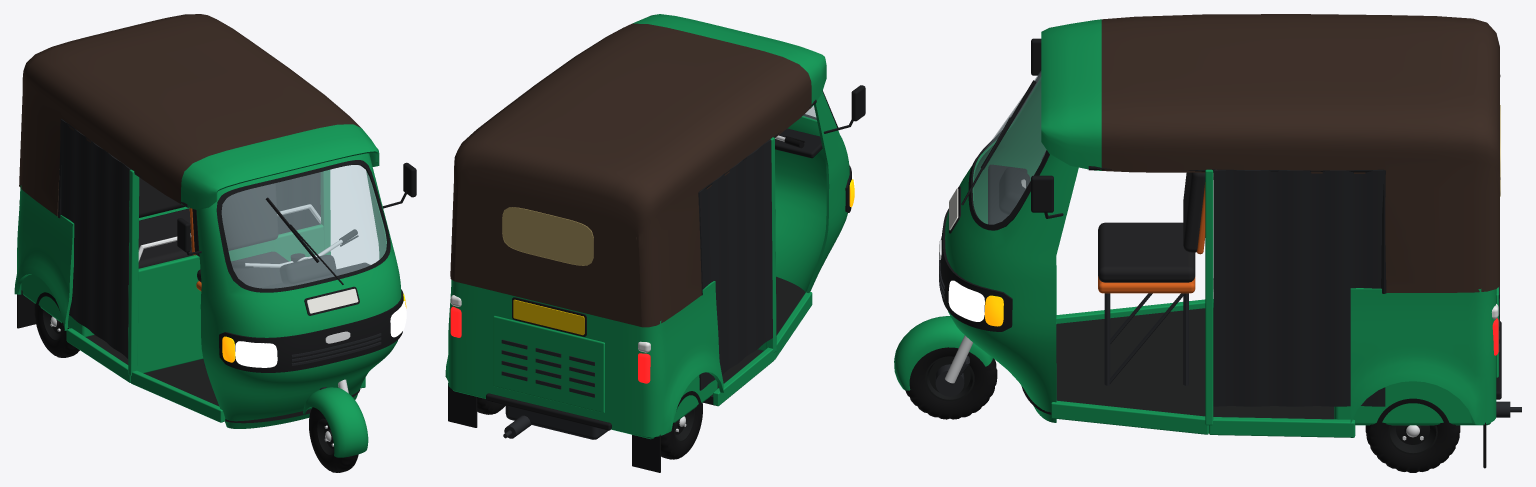
The model's file is bajaj_green.glb.
3 views of the same model, side by side, from view 1: azimuth 30°, elevation 25°; view 2: azimuth 150°, elevation 25°; view 3: azimuth 270°, elevation 25° (orthographic). The views are drawn at different scales.
Visible parts, largest first — view 1: Body, Steering, Wheel_F, Wheel_RL, Plate_Front; view 2: Body, Wheel_RL, Plate_Rear; view 3: Body, Wheel_RR, Wheel_F, Steering.
Part boxes in pixels (x1=…): Body: x1=14, y1=14, x2=416, y2=428; Steering: x1=231, y1=229, x2=368, y2=457; Wheel_F: x1=309, y1=407, x2=358, y2=472; Wheel_RL: x1=34, y1=292, x2=79, y2=357; Plate_Front: x1=307, y1=288, x2=358, y2=313; Body: x1=445, y1=14, x2=865, y2=472; Wheel_RL: x1=661, y1=391, x2=702, y2=459; Plate_Rear: x1=513, y1=299, x2=584, y2=335; Body: x1=939, y1=14, x2=1521, y2=468; Wheel_RR: x1=1365, y1=398, x2=1460, y2=472; Wheel_F: x1=905, y1=347, x2=997, y2=419; Steering: x1=894, y1=151, x2=1045, y2=396.
Bounding box in the file's own units: 1.43 × 1.7 × 2.71.
